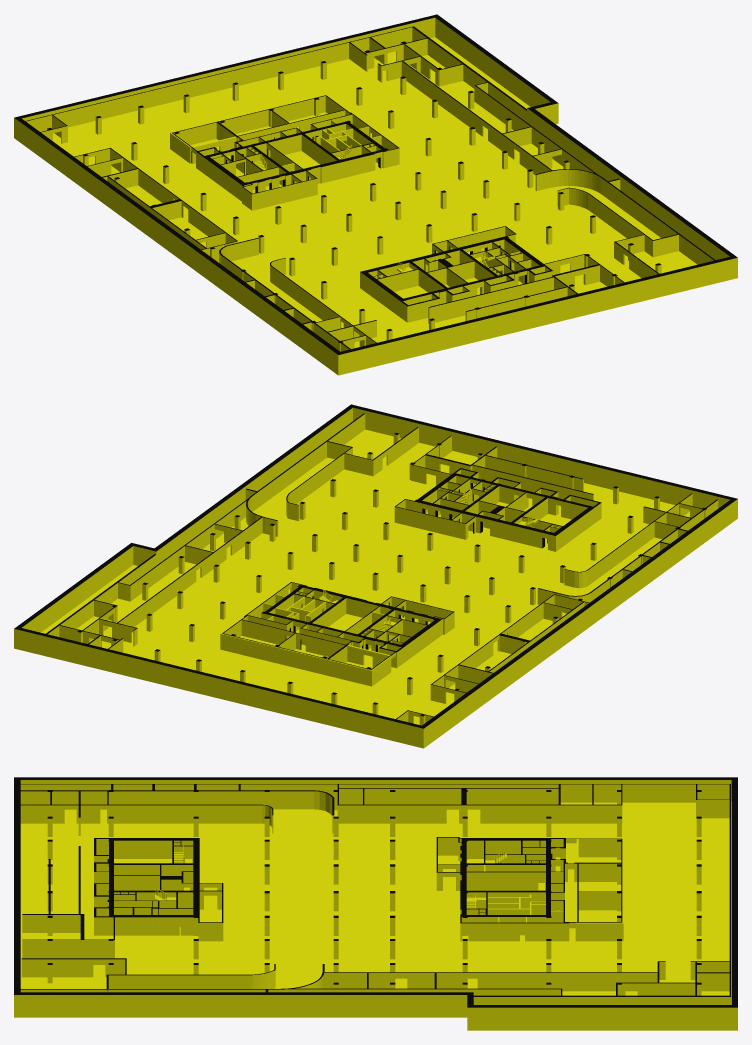
Rendered from sm_hana_building_b2f.glb.
3 views of the same model, one above another, from view 1: azimuth 30°, elevation 25°; view 2: azimuth 150°, elevation 25°; view 3: azimuth 270°, elevation 25° (orthographic). The views are drawn at different scales.
Parts seen in each view (by area): view 1: sm_hana_building_b2f; view 2: sm_hana_building_b2f; view 3: sm_hana_building_b2f.
Part boxes in pixels (x1,y1,x2,y2): sm_hana_building_b2f: [14, 14, 737, 375]; sm_hana_building_b2f: [14, 404, 737, 748]; sm_hana_building_b2f: [14, 777, 737, 1030].
Size of the model in its own units: 86.61 by 5.02 by 115.
4 materials, 2 textured.
